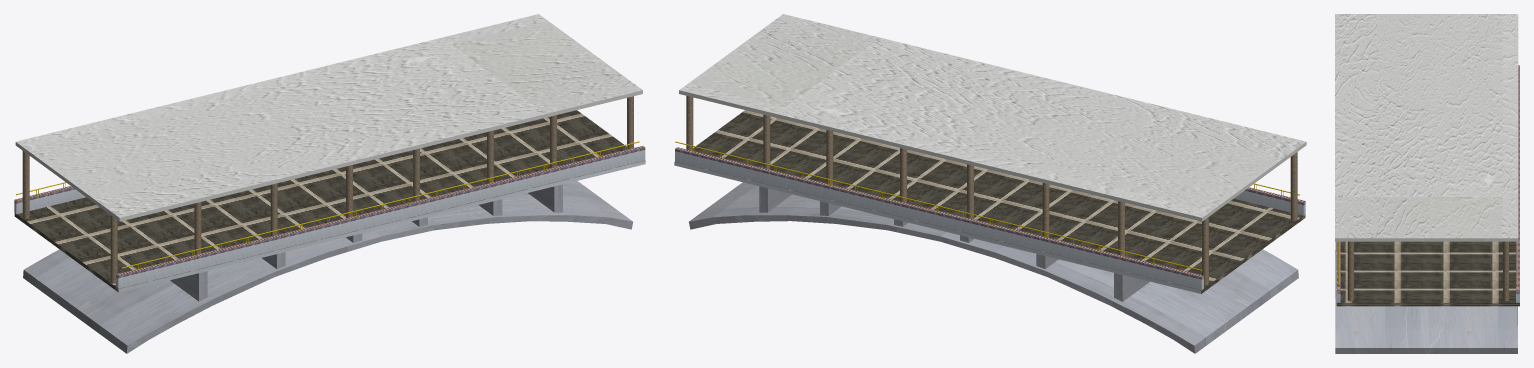
File: Puente.obj
3 views of the same model, side by side, from view 1: azimuth 30°, elevation 25°; view 2: azimuth 150°, elevation 25°; view 3: azimuth 270°, elevation 25° (orthographic). The views are drawn at different scales.
Parts seen in each view (by area): view 1: Cube, Cube.001, Circle, Cube.008, Cube.010, Cylinder.137, Cube.002, Cube.004, Cylinder.160, Cylinder.162; view 2: Cube, Cube.001, Circle, Cube.010, Cube.008, Cylinder, Cube.002, Cube.004, Cylinder.162; view 3: Cube, Cube.001, Circle, Cube.010, Cylinder.163, Cylinder.161, Cube.008.
Boxes of the visible parts, <box> form: Cube: <box>15,14,642,221</box>; Cube.001: <box>14,110,645,292</box>; Circle: <box>23,181,632,353</box>; Cube.008: <box>116,146,645,288</box>; Cube.010: <box>14,186,85,214</box>; Cylinder.137: <box>122,141,639,268</box>; Cube.002: <box>170,271,207,301</box>; Cube.004: <box>528,184,562,212</box>; Cylinder.160: <box>22,151,29,218</box>; Cylinder.162: <box>110,215,117,283</box>; Cube: <box>679,14,1306,221</box>; Cube.001: <box>674,110,1305,293</box>; Circle: <box>689,182,1298,353</box>; Cube.010: <box>675,147,1203,290</box>; Cube.008: <box>1234,187,1305,215</box>; Cylinder: <box>675,141,1202,270</box>; Cube.002: <box>1114,273,1149,301</box>; Cube.004: <box>759,186,791,212</box>; Cylinder.162: <box>1290,152,1297,220</box>; Cube: <box>1335,14,1518,241</box>; Cube.001: <box>1336,241,1519,306</box>; Circle: <box>1335,241,1517,353</box>; Cube.010: <box>1516,65,1519,302</box>; Cylinder.163: <box>1347,241,1353,301</box>; Cylinder.161: <box>1503,241,1508,301</box>; Cube.008: <box>1337,241,1340,302</box>.
Bounding box in the file's own units: 585 × 146 × 202.
15 materials, 15 textured.
